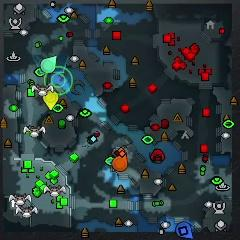p1: (176, 221, 194, 239)
p2: (42, 55, 58, 75)
p4: (42, 89, 59, 110)
p5: (112, 152, 129, 171)
